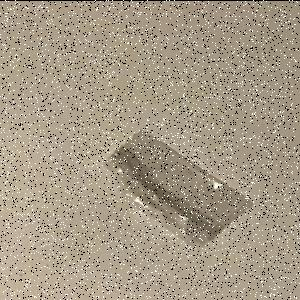Trash: (103, 130, 255, 252)
